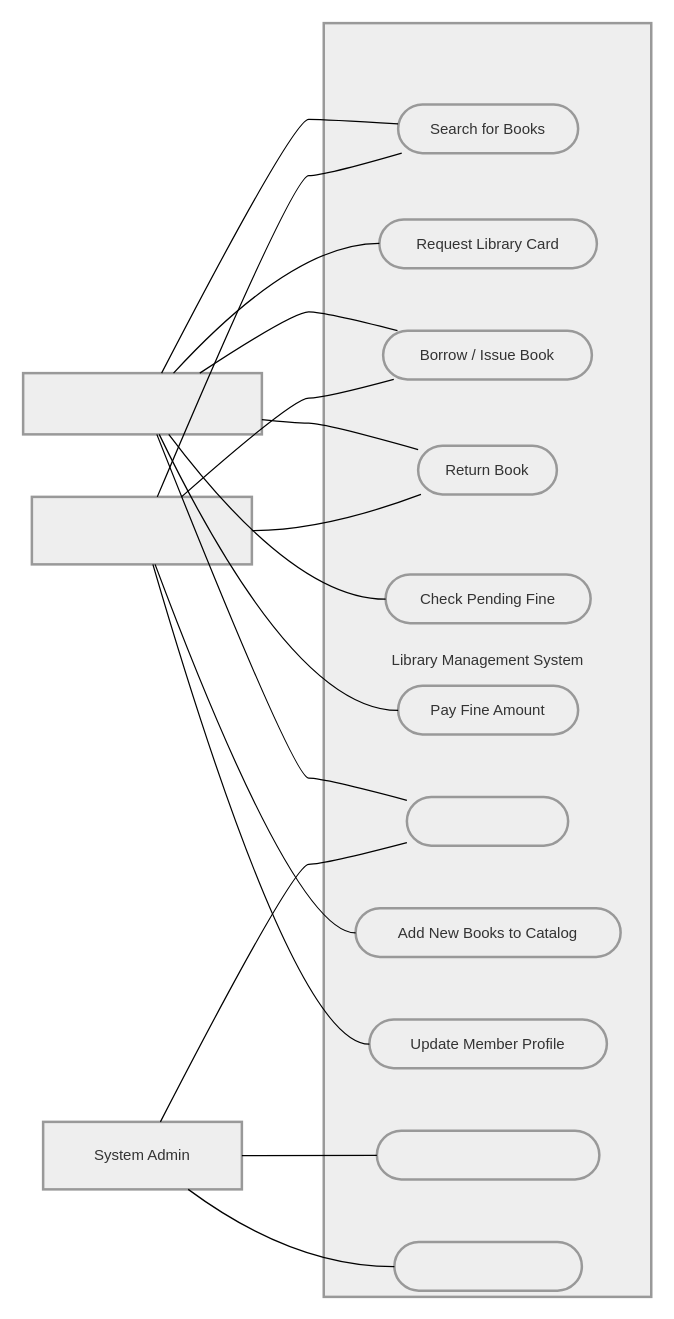
Some shapes in this 674 by 1319 pixel diagram are drawn without their labels. The box of each missing label's shape, as (x1, y1, x2, y2) in pixels:
Generate Reports: (392, 1240, 582, 1291)
Librarian / Staff: (30, 495, 252, 565)
Login / Logout: (405, 795, 569, 846)
Manage Staff Records: (375, 1129, 600, 1180)
Student / Member: (21, 371, 262, 435)
